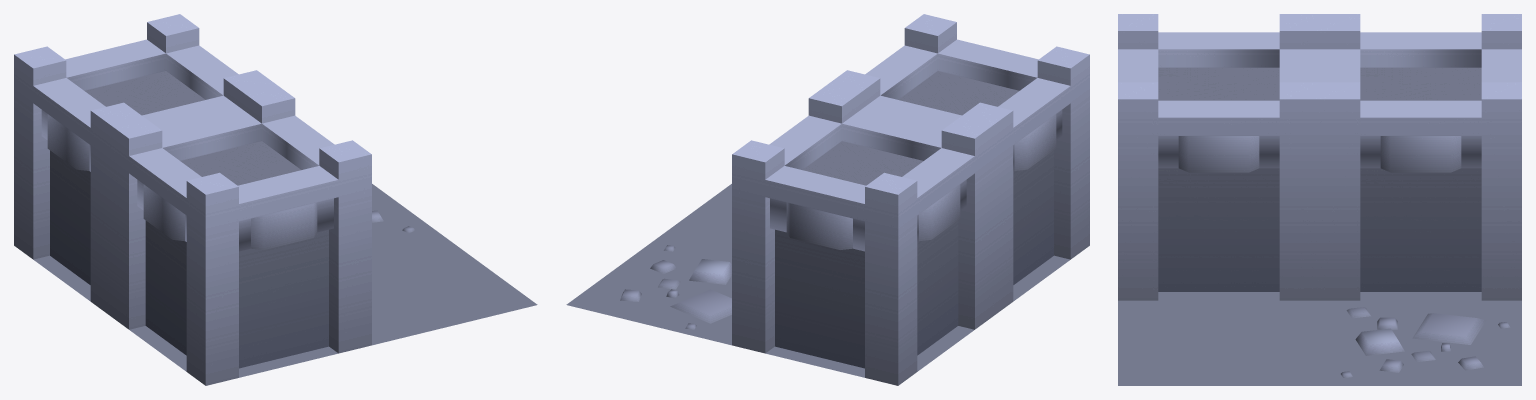
The model's file is wall2.glb.
The picture shows the model from 3 angles, left to right: view 1: azimuth 30°, elevation 25°; view 2: azimuth 150°, elevation 25°; view 3: azimuth 270°, elevation 25°; orthographic projection. The views are drawn at different scales.
Visible parts, largest first — view 1: wall, wall2, floor, floor-detail; view 2: wall2, wall, floor-detail, floor; view 3: wall, wall2, floor, floor-detail.
Boxes of the visible parts, <box> form: wall: <box>110,84,371,385</box>; wall2: <box>14,14,275,315</box>; floor: <box>372,235,537,345</box>; floor-detail: <box>372,184,441,251</box>; wall2: <box>732,84,993,385</box>; wall: <box>828,14,1089,315</box>; floor-detail: <box>566,235,731,345</box>; floor: <box>662,184,731,251</box>; wall: <box>1118,14,1319,300</box>; wall2: <box>1320,14,1521,300</box>; floor: <box>1118,300,1319,385</box>; floor-detail: <box>1320,300,1521,385</box>.
Size of the model in its own units: 2 by 1.1 by 2.
4 materials, 4 textured.
